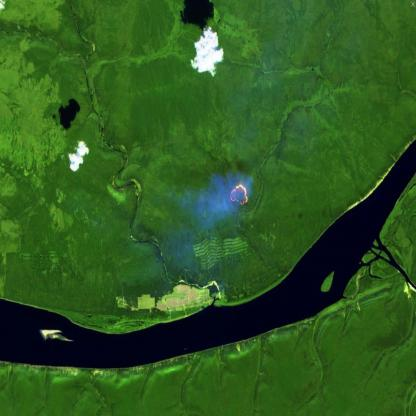fire: (225, 176, 252, 210)
